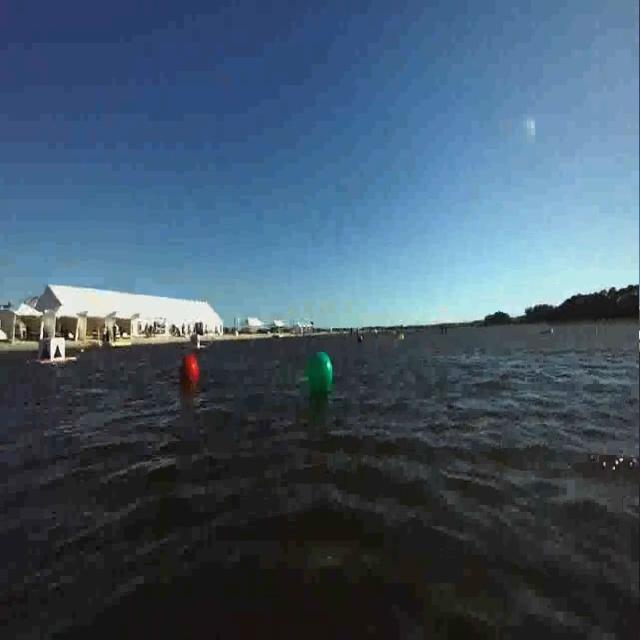green-buoy: (306, 350, 334, 390)
red-column-buoy: (178, 354, 198, 383)
